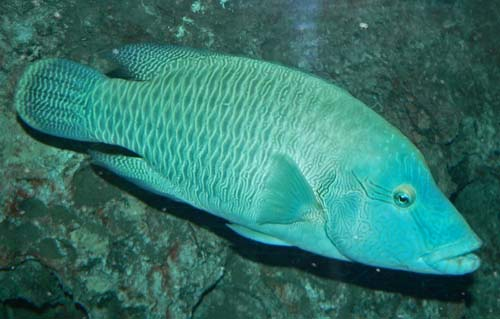fish: (15, 43, 482, 275)
